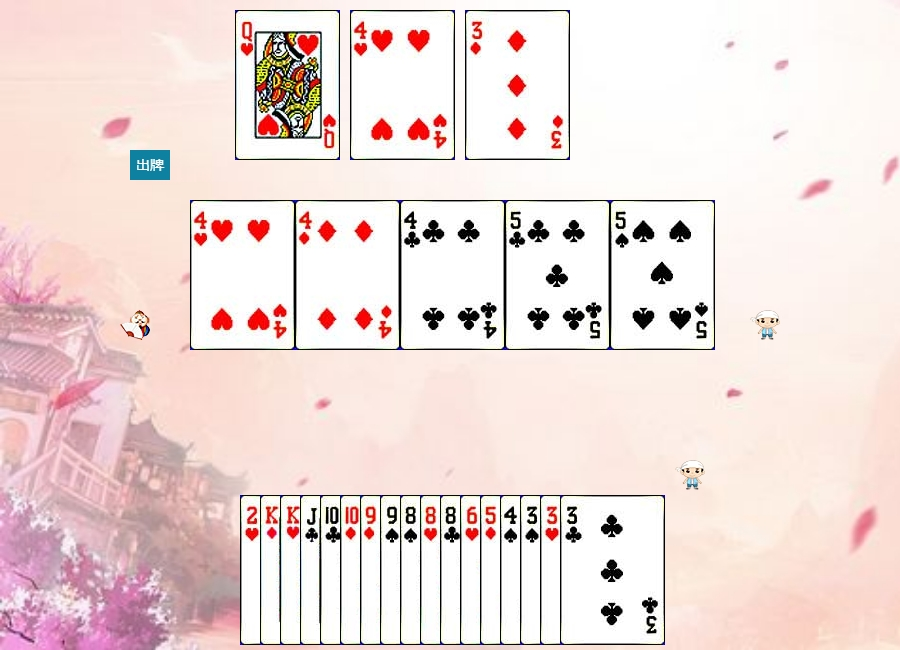10~1: (340, 495, 445, 645)
10~2: (320, 495, 425, 645)
11~2: (300, 495, 405, 645)
12~3: (235, 10, 340, 160)
13~1: (260, 495, 365, 645)
13~3: (280, 495, 385, 645)
15~3: (240, 495, 345, 645)
3~1: (465, 10, 570, 160)
3~2: (560, 495, 665, 645)
3~3: (540, 495, 645, 645)
3~4: (520, 495, 625, 645)
4~1: (295, 200, 400, 350)
4~2: (400, 200, 505, 350)
4~3: (350, 10, 455, 160), (190, 200, 295, 350)
4~4: (500, 495, 605, 645)
5~1: (480, 495, 585, 645)
5~2: (505, 200, 610, 350)
5~4: (610, 200, 715, 350)
6~3: (460, 495, 565, 645)
8~2: (440, 495, 545, 645)
8~3: (420, 495, 525, 645)
8~4: (400, 495, 505, 645)
9~1: (360, 495, 465, 645)
9~4: (380, 495, 485, 645)
